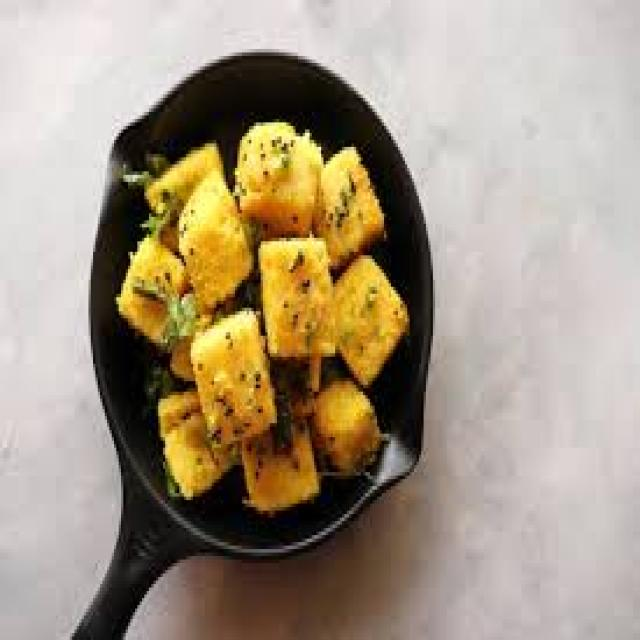DHOKLA: (191, 311, 275, 441), (177, 168, 251, 308), (333, 255, 407, 385), (235, 122, 319, 234), (261, 241, 333, 353), (317, 147, 382, 266)
